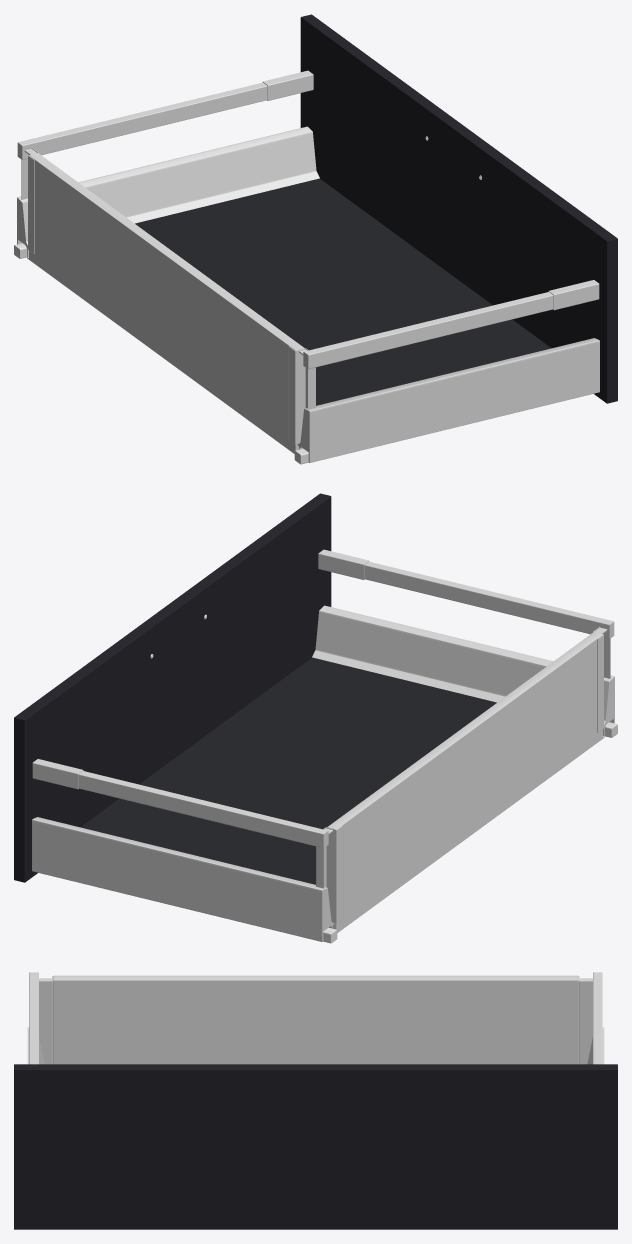
File: Kitchen11Drawer02.fbx
3 renders of one model, top to bottom at view 1: azimuth 30°, elevation 25°; view 2: azimuth 150°, elevation 25°; view 3: azimuth 270°, elevation 25°, orthographic.
Parts seen in each view (by area): view 1: Kitchen11Drawer02; view 2: Kitchen11Drawer02; view 3: Kitchen11Drawer02.
Boxes of the visible parts, box(x1,y1,x2,y2) form: Kitchen11Drawer02: box(14, 14, 617, 464); Kitchen11Drawer02: box(14, 493, 617, 943); Kitchen11Drawer02: box(14, 972, 617, 1229).
Size of what is drawn, in the model's own units: 51.99 by 89.69 by 26.3.
Materials: 4 (1 with a texture image).
